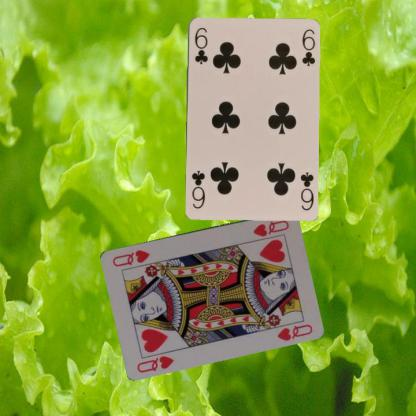6c: (297, 169, 315, 211), (192, 25, 209, 66)
Qh: (135, 352, 175, 374), (250, 217, 291, 238)
